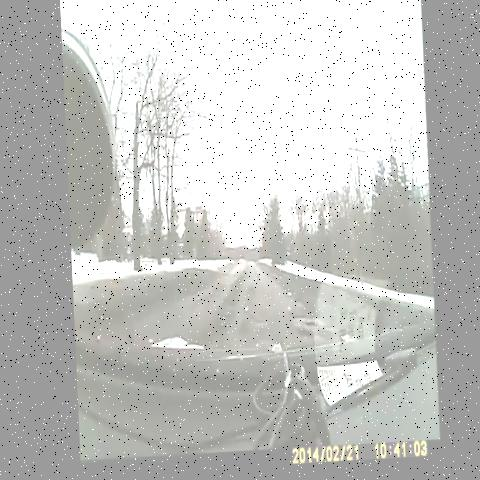pothole: (280, 290, 325, 346), (205, 295, 242, 341), (235, 302, 268, 342), (232, 261, 248, 287), (241, 276, 257, 298)
